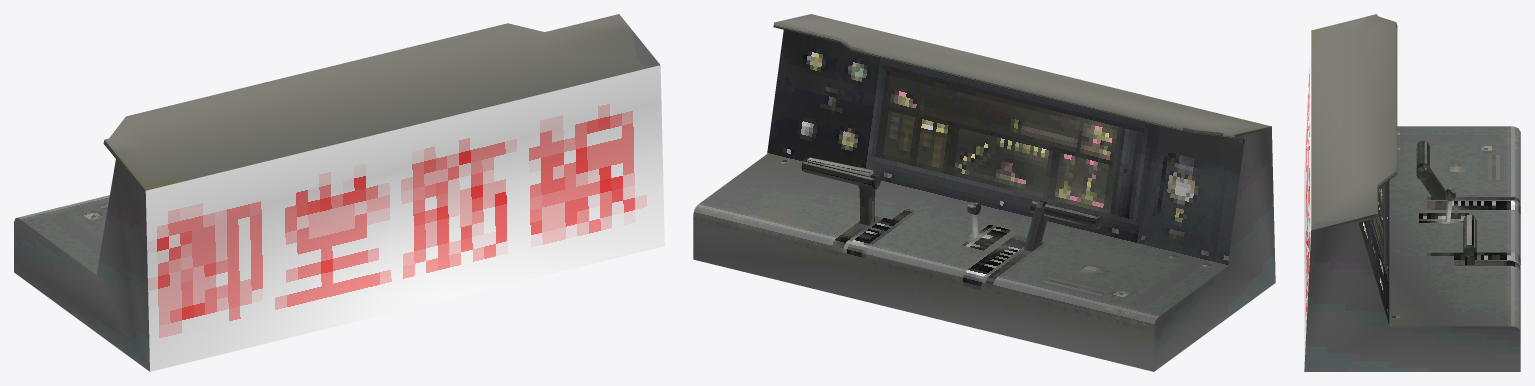
File: ps2_save-icons_trainsimulatormidousujisen.glb
The picture shows the model from 3 angles, left to right: view 1: azimuth 30°, elevation 25°; view 2: azimuth 150°, elevation 25°; view 3: azimuth 270°, elevation 25°; orthographic projection. The views are drawn at different scales.
Visible parts, largest first — view 1: ICON.ICO; view 2: ICON.ICO; view 3: ICON.ICO.
Part boxes in pixels (x1,y1,x2,y2): ICON.ICO: [14, 14, 664, 371]; ICON.ICO: [693, 14, 1275, 371]; ICON.ICO: [1304, 14, 1520, 371].
Bounding box in the file's own units: 4.96 × 1.89 × 2.27.
1 material, 1 textured.
